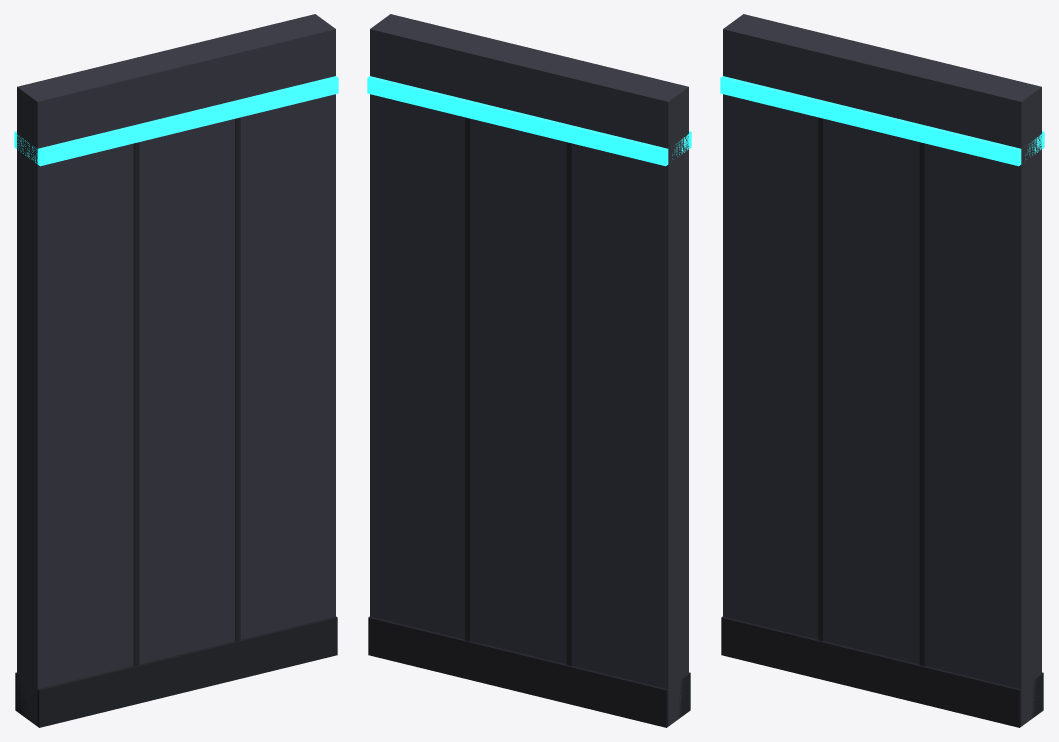
Rendered from cyb-concreto-ciano.gltf.
The picture shows the model from 3 angles, left to right: view 1: azimuth 30°, elevation 25°; view 2: azimuth 150°, elevation 25°; view 3: azimuth 330°, elevation 25°; orthographic projection.
Parts seen in each view (by area): view 1: cyb-concreto-ciano; view 2: cyb-concreto-ciano; view 3: cyb-concreto-ciano.
Part boxes in pixels (box(x1,y1,x2,y2)): cyb-concreto-ciano: box(14, 14, 338, 727); cyb-concreto-ciano: box(367, 14, 691, 727); cyb-concreto-ciano: box(720, 14, 1044, 727).
Bounding box in the file's own units: 1 × 2 × 0.15.
